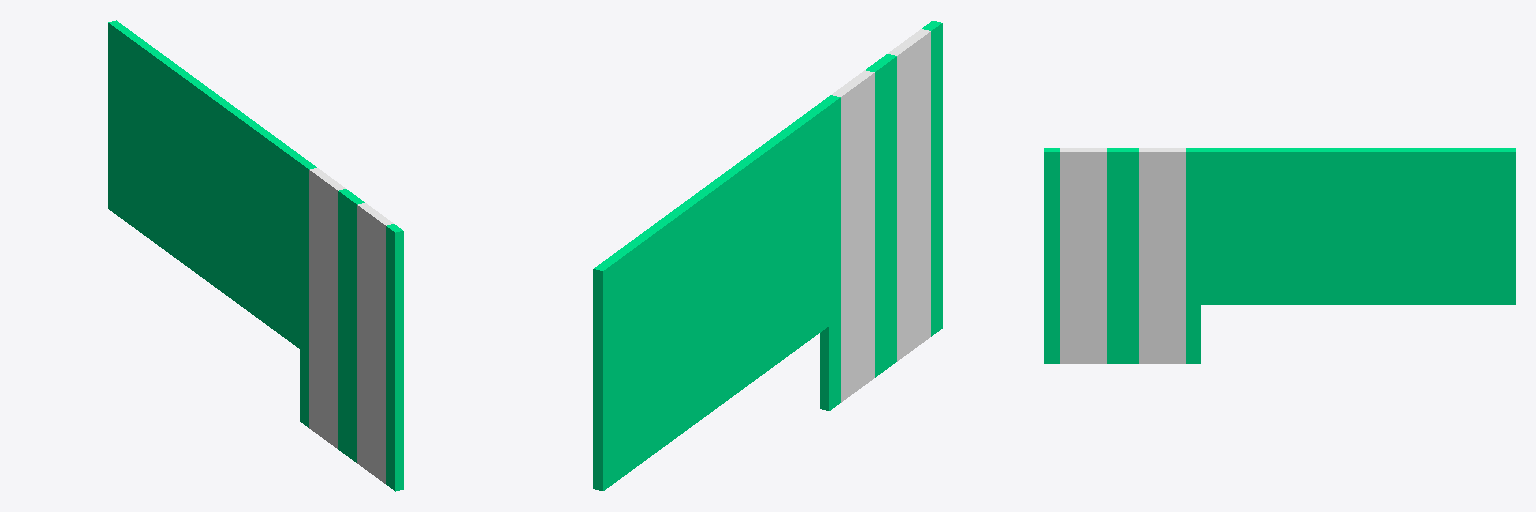
robot.urdf — room73b2-kitchen-shelf:
<?xml version="1.0"?>
<robot name="room73b2-kitchen-shelf"
       xmlns:xi="http://www.w3.org/2001/XInclude"
       >
  <gazebo>
    <static>false</static>
  </gazebo>
  <link name="ROOT_link">
    <visual>
      <origin xyz="0 0 0" rpy="0 -0 0"/>
      <geometry>
        <mesh filename="model://room73b2-kitchen-shelf/meshes/ROOT_link_mesh.dae" scale="1 1 1" />
      </geometry>
    </visual>
    <collision>
      <origin xyz="0 0 0" rpy="0 -0 0"/>
      <geometry>
        <mesh filename="model://room73b2-kitchen-shelf/meshes/ROOT_link_mesh.dae" scale="1 1 1" />
      </geometry>
    </collision>
    <inertial>
      <mass value="0.001" />
      <origin xyz="0 0 0" rpy="0 -0 0"/>
      <inertia ixx="1e-03" ixy="0" ixz="0" iyy="1e-03" iyz="0" izz="1e-03"/>
    </inertial>
  </link>
  <gazebo reference="ROOT_link">
    <mu1>0.9</mu1>
    <mu2>0.9</mu2>
  </gazebo>
  <link name="ROOM73B2-KITCHEN-SHELF-BODYSET7_link">
    <visual>
      <origin xyz="0.18 1.485 0.25" rpy="0 -0 0"/>
      <geometry>
        <mesh filename="model://room73b2-kitchen-shelf/meshes/ROOM73B2-KITCHEN-SHELF-BODYSET7_link_mesh.dae" scale="1 1 1" />
      </geometry>
    </visual>
    <collision>
      <origin xyz="0.18 1.485 0.25" rpy="0 -0 0"/>
      <geometry>
        <mesh filename="model://room73b2-kitchen-shelf/meshes/ROOM73B2-KITCHEN-SHELF-BODYSET7_link_mesh.dae" scale="1 1 1" />
      </geometry>
    </collision>
    <inertial>
      <mass value="0.001" />
      <origin xyz="0 0 0" rpy="0 -0 0"/>
      <inertia ixx="1e-03" ixy="0" ixz="0" iyy="1e-03" iyz="0" izz="1e-03"/>
    </inertial>
  </link>
  <gazebo reference="ROOM73B2-KITCHEN-SHELF-BODYSET7_link">
    <mu1>0.9</mu1>
    <mu2>0.9</mu2>
  </gazebo>
  <link name="ROOM73B2-KITCHEN-SHELF-BODYSET6_link">
    <visual>
      <origin xyz="0.18 0.915 0.25" rpy="0 -0 0"/>
      <geometry>
        <mesh filename="model://room73b2-kitchen-shelf/meshes/ROOM73B2-KITCHEN-SHELF-BODYSET6_link_mesh.dae" scale="1 1 1" />
      </geometry>
    </visual>
    <collision>
      <origin xyz="0.18 0.915 0.25" rpy="0 -0 0"/>
      <geometry>
        <mesh filename="model://room73b2-kitchen-shelf/meshes/ROOM73B2-KITCHEN-SHELF-BODYSET6_link_mesh.dae" scale="1 1 1" />
      </geometry>
    </collision>
    <inertial>
      <mass value="0.001" />
      <origin xyz="0 0 0" rpy="0 -0 0"/>
      <inertia ixx="1e-03" ixy="0" ixz="0" iyy="1e-03" iyz="0" izz="1e-03"/>
    </inertial>
  </link>
  <gazebo reference="ROOM73B2-KITCHEN-SHELF-BODYSET6_link">
    <mu1>0.9</mu1>
    <mu2>0.9</mu2>
  </gazebo>
  <link name="ROOM73B2-KITCHEN-SHELF-BODYSET5_link">
    <visual>
      <origin xyz="0.18 0.885 0.25" rpy="0 -0 0"/>
      <geometry>
        <mesh filename="model://room73b2-kitchen-shelf/meshes/ROOM73B2-KITCHEN-SHELF-BODYSET5_link_mesh.dae" scale="1 1 1" />
      </geometry>
    </visual>
    <collision>
      <origin xyz="0.18 0.885 0.25" rpy="0 -0 0"/>
      <geometry>
        <mesh filename="model://room73b2-kitchen-shelf/meshes/ROOM73B2-KITCHEN-SHELF-BODYSET5_link_mesh.dae" scale="1 1 1" />
      </geometry>
    </collision>
    <inertial>
      <mass value="0.001" />
      <origin xyz="0 0 0" rpy="0 -0 0"/>
      <inertia ixx="1e-03" ixy="0" ixz="0" iyy="1e-03" iyz="0" izz="1e-03"/>
    </inertial>
  </link>
  <gazebo reference="ROOM73B2-KITCHEN-SHELF-BODYSET5_link">
    <mu1>0.9</mu1>
    <mu2>0.9</mu2>
  </gazebo>
  <link name="ROOM73B2-KITCHEN-SHELF-BODYSET4_link">
    <visual>
      <origin xyz="0.18 0.315 0.25" rpy="0 -0 0"/>
      <geometry>
        <mesh filename="model://room73b2-kitchen-shelf/meshes/ROOM73B2-KITCHEN-SHELF-BODYSET4_link_mesh.dae" scale="1 1 1" />
      </geometry>
    </visual>
    <collision>
      <origin xyz="0.18 0.315 0.25" rpy="0 -0 0"/>
      <geometry>
        <mesh filename="model://room73b2-kitchen-shelf/meshes/ROOM73B2-KITCHEN-SHELF-BODYSET4_link_mesh.dae" scale="1 1 1" />
      </geometry>
    </collision>
    <inertial>
      <mass value="0.001" />
      <origin xyz="0 0 0" rpy="0 -0 0"/>
      <inertia ixx="1e-03" ixy="0" ixz="0" iyy="1e-03" iyz="0" izz="1e-03"/>
    </inertial>
  </link>
  <gazebo reference="ROOM73B2-KITCHEN-SHELF-BODYSET4_link">
    <mu1>0.9</mu1>
    <mu2>0.9</mu2>
  </gazebo>
  <link name="ROOM73B2-KITCHEN-SHELF-BODYSET3_link">
    <visual>
      <origin xyz="0.18 0.285 0" rpy="0 -0 0"/>
      <geometry>
        <mesh filename="model://room73b2-kitchen-shelf/meshes/ROOM73B2-KITCHEN-SHELF-BODYSET3_link_mesh.dae" scale="1 1 1" />
      </geometry>
    </visual>
    <collision>
      <origin xyz="0.18 0.285 0" rpy="0 -0 0"/>
      <geometry>
        <mesh filename="model://room73b2-kitchen-shelf/meshes/ROOM73B2-KITCHEN-SHELF-BODYSET3_link_mesh.dae" scale="1 1 1" />
      </geometry>
    </collision>
    <inertial>
      <mass value="0.001" />
      <origin xyz="0 0 0" rpy="0 -0 0"/>
      <inertia ixx="1e-03" ixy="0" ixz="0" iyy="1e-03" iyz="0" izz="1e-03"/>
    </inertial>
  </link>
  <gazebo reference="ROOM73B2-KITCHEN-SHELF-BODYSET3_link">
    <mu1>0.9</mu1>
    <mu2>0.9</mu2>
  </gazebo>
  <link name="ROOM73B2-KITCHEN-SHELF-BODYSET2_link">
    <visual>
      <origin xyz="0.18 -0.285 0" rpy="0 -0 0"/>
      <geometry>
        <mesh filename="model://room73b2-kitchen-shelf/meshes/ROOM73B2-KITCHEN-SHELF-BODYSET2_link_mesh.dae" scale="1 1 1" />
      </geometry>
    </visual>
    <collision>
      <origin xyz="0.18 -0.285 0" rpy="0 -0 0"/>
      <geometry>
        <mesh filename="model://room73b2-kitchen-shelf/meshes/ROOM73B2-KITCHEN-SHELF-BODYSET2_link_mesh.dae" scale="1 1 1" />
      </geometry>
    </collision>
    <inertial>
      <mass value="0.001" />
      <origin xyz="0 0 0" rpy="0 -0 0"/>
      <inertia ixx="1e-03" ixy="0" ixz="0" iyy="1e-03" iyz="0" izz="1e-03"/>
    </inertial>
  </link>
  <gazebo reference="ROOM73B2-KITCHEN-SHELF-BODYSET2_link">
    <mu1>0.9</mu1>
    <mu2>0.9</mu2>
  </gazebo>
  <joint name="DOOR-0" type="revolute">
    <parent link="ROOT_link"/>
    <child  link="ROOM73B2-KITCHEN-SHELF-BODYSET7_link"/>
    <origin xyz="0.18 1.485 0.25" rpy="0 -0 0 "/>
    <axis   xyz="0 0 1"/>
    <limit lower="0" upper="1.5708" effort="100" velocity="0.5" />
    <dynamics damping="0.2" friction="0" />
  </joint>
  <transmission type="pr2_mechanism_model/SimpleTransmission" name="DOOR-0_trans" >
    <actuator name="DOOR-0_motor" />
    <joint name="DOOR-0" />
    <mechanicalReduction>1</mechanicalReduction>
  </transmission>
  <gazebo reference="DOOR-0">
    <cfmDamping>0.4</cfmDamping>
  </gazebo>
  <joint name="DOOR-1" type="revolute">
    <parent link="ROOT_link"/>
    <child  link="ROOM73B2-KITCHEN-SHELF-BODYSET6_link"/>
    <origin xyz="0.18 0.915 0.25" rpy="0 -0 0 "/>
    <axis   xyz="0 0 -1"/>
    <limit lower="0" upper="1.5708" effort="100" velocity="0.5" />
    <dynamics damping="0.2" friction="0" />
  </joint>
  <transmission type="pr2_mechanism_model/SimpleTransmission" name="DOOR-1_trans" >
    <actuator name="DOOR-1_motor" />
    <joint name="DOOR-1" />
    <mechanicalReduction>1</mechanicalReduction>
  </transmission>
  <gazebo reference="DOOR-1">
    <cfmDamping>0.4</cfmDamping>
  </gazebo>
  <joint name="DOOR-2" type="revolute">
    <parent link="ROOT_link"/>
    <child  link="ROOM73B2-KITCHEN-SHELF-BODYSET5_link"/>
    <origin xyz="0.18 0.885 0.25" rpy="0 -0 0 "/>
    <axis   xyz="0 0 1"/>
    <limit lower="0" upper="1.5708" effort="100" velocity="0.5" />
    <dynamics damping="0.2" friction="0" />
  </joint>
  <transmission type="pr2_mechanism_model/SimpleTransmission" name="DOOR-2_trans" >
    <actuator name="DOOR-2_motor" />
    <joint name="DOOR-2" />
    <mechanicalReduction>1</mechanicalReduction>
  </transmission>
  <gazebo reference="DOOR-2">
    <cfmDamping>0.4</cfmDamping>
  </gazebo>
  <joint name="DOOR-3" type="revolute">
    <parent link="ROOT_link"/>
    <child  link="ROOM73B2-KITCHEN-SHELF-BODYSET4_link"/>
    <origin xyz="0.18 0.315 0.25" rpy="0 -0 0 "/>
    <axis   xyz="0 0 -1"/>
    <limit lower="0" upper="1.5708" effort="100" velocity="0.5" />
    <dynamics damping="0.2" friction="0" />
  </joint>
  <transmission type="pr2_mechanism_model/SimpleTransmission" name="DOOR-3_trans" >
    <actuator name="DOOR-3_motor" />
    <joint name="DOOR-3" />
    <mechanicalReduction>1</mechanicalReduction>
  </transmission>
  <gazebo reference="DOOR-3">
    <cfmDamping>0.4</cfmDamping>
  </gazebo>
  <joint name="DOOR-4" type="revolute">
    <parent link="ROOT_link"/>
    <child  link="ROOM73B2-KITCHEN-SHELF-BODYSET3_link"/>
    <origin xyz="0.18 0.285 0" rpy="0 -0 0 "/>
    <axis   xyz="0 0 1"/>
    <limit lower="0" upper="1.5708" effort="100" velocity="0.5" />
    <dynamics damping="0.2" friction="0" />
  </joint>
  <transmission type="pr2_mechanism_model/SimpleTransmission" name="DOOR-4_trans" >
    <actuator name="DOOR-4_motor" />
    <joint name="DOOR-4" />
    <mechanicalReduction>1</mechanicalReduction>
  </transmission>
  <gazebo reference="DOOR-4">
    <cfmDamping>0.4</cfmDamping>
  </gazebo>
  <joint name="DOOR-5" type="revolute">
    <parent link="ROOT_link"/>
    <child  link="ROOM73B2-KITCHEN-SHELF-BODYSET2_link"/>
    <origin xyz="0.18 -0.285 0" rpy="0 -0 0 "/>
    <axis   xyz="0 0 -1"/>
    <limit lower="0" upper="1.5708" effort="100" velocity="0.5" />
    <dynamics damping="0.2" friction="0" />
  </joint>
  <transmission type="pr2_mechanism_model/SimpleTransmission" name="DOOR-5_trans" >
    <actuator name="DOOR-5_motor" />
    <joint name="DOOR-5" />
    <mechanicalReduction>1</mechanicalReduction>
  </transmission>
  <gazebo reference="DOOR-5">
    <cfmDamping>0.4</cfmDamping>
  </gazebo>
</robot>

--- Render facts (derived) ---
Views: 3 orthographic renders of the robot side by side, from view 1: azimuth 30°, elevation 25°; view 2: azimuth 150°, elevation 25°; view 3: azimuth 270°, elevation 25°.
Model room73b2-kitchen-shelf with 7 links and 6 joints (6 revolute), rooted at ROOT_link, posed all joints at 0.
Links seen in each view (by area): view 1: ROOM73B2-KITCHEN-SHELF-BODYSET2_link, ROOM73B2-KITCHEN-SHELF-BODYSET3_link, ROOM73B2-KITCHEN-SHELF-BODYSET7_link, ROOM73B2-KITCHEN-SHELF-BODYSET6_link, ROOM73B2-KITCHEN-SHELF-BODYSET5_link, ROOM73B2-KITCHEN-SHELF-BODYSET4_link; view 2: ROOM73B2-KITCHEN-SHELF-BODYSET3_link, ROOM73B2-KITCHEN-SHELF-BODYSET2_link, ROOM73B2-KITCHEN-SHELF-BODYSET7_link, ROOM73B2-KITCHEN-SHELF-BODYSET5_link, ROOM73B2-KITCHEN-SHELF-BODYSET6_link, ROOM73B2-KITCHEN-SHELF-BODYSET4_link; view 3: ROOM73B2-KITCHEN-SHELF-BODYSET2_link, ROOM73B2-KITCHEN-SHELF-BODYSET3_link, ROOM73B2-KITCHEN-SHELF-BODYSET7_link, ROOM73B2-KITCHEN-SHELF-BODYSET5_link, ROOM73B2-KITCHEN-SHELF-BODYSET4_link, ROOM73B2-KITCHEN-SHELF-BODYSET6_link.
Boxes of the visible links, x1,y1,x2,y2 form: ROOM73B2-KITCHEN-SHELF-BODYSET2_link: [348, 196, 403, 491]; ROOM73B2-KITCHEN-SHELF-BODYSET3_link: [300, 161, 355, 455]; ROOM73B2-KITCHEN-SHELF-BODYSET7_link: [108, 20, 163, 243]; ROOM73B2-KITCHEN-SHELF-BODYSET6_link: [156, 56, 211, 278]; ROOM73B2-KITCHEN-SHELF-BODYSET5_link: [204, 91, 259, 313]; ROOM73B2-KITCHEN-SHELF-BODYSET4_link: [252, 126, 307, 348]; ROOM73B2-KITCHEN-SHELF-BODYSET3_link: [820, 62, 885, 410]; ROOM73B2-KITCHEN-SHELF-BODYSET2_link: [877, 21, 942, 369]; ROOM73B2-KITCHEN-SHELF-BODYSET7_link: [593, 228, 659, 490]; ROOM73B2-KITCHEN-SHELF-BODYSET5_link: [707, 145, 772, 408]; ROOM73B2-KITCHEN-SHELF-BODYSET6_link: [650, 186, 715, 449]; ROOM73B2-KITCHEN-SHELF-BODYSET4_link: [763, 103, 828, 366]; ROOM73B2-KITCHEN-SHELF-BODYSET2_link: [1044, 148, 1122, 363]; ROOM73B2-KITCHEN-SHELF-BODYSET3_link: [1123, 148, 1200, 363]; ROOM73B2-KITCHEN-SHELF-BODYSET7_link: [1437, 148, 1515, 304]; ROOM73B2-KITCHEN-SHELF-BODYSET5_link: [1280, 148, 1358, 304]; ROOM73B2-KITCHEN-SHELF-BODYSET4_link: [1201, 148, 1279, 304]; ROOM73B2-KITCHEN-SHELF-BODYSET6_link: [1359, 148, 1436, 304].
Bounding box of the posed robot: 0.03 × 1.8 × 0.895 m (x, y, z).
6 mesh visuals loaded from 7 distinct referenced files (6 Collada DAE); not drawn: 1 (reference not matched to a file when rendering).